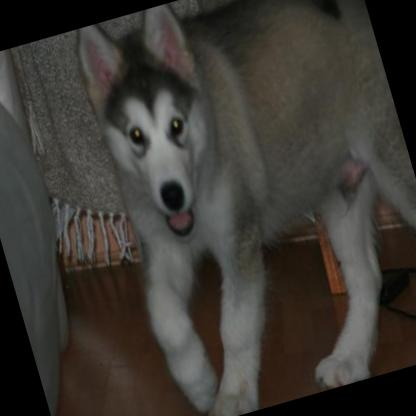malamute: (65, 0, 416, 416)
